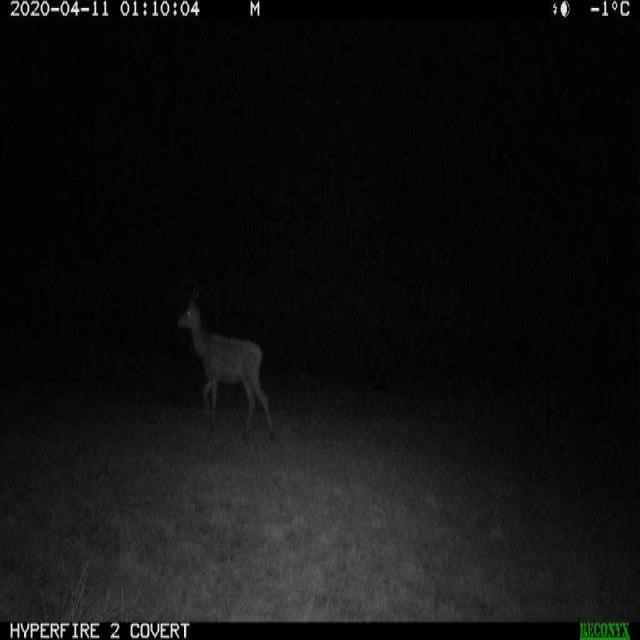deer: (167, 279, 276, 449)
